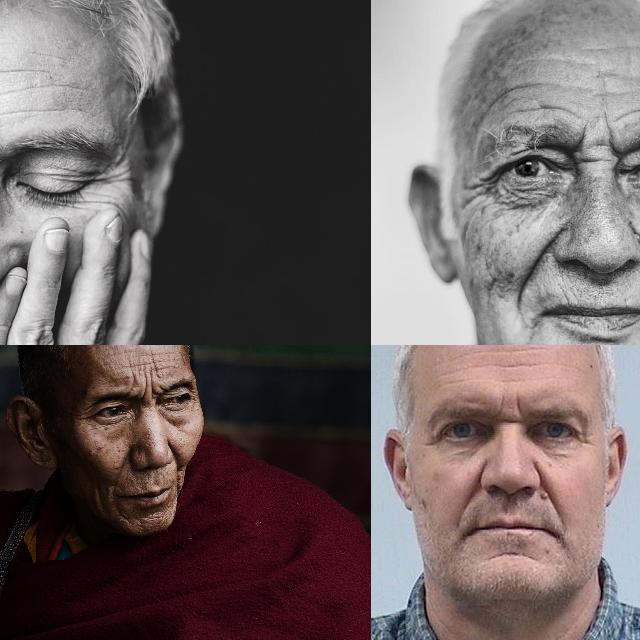chin: (488, 546, 536, 568), (113, 506, 133, 530)
crows_feet: (472, 172, 500, 200), (103, 159, 133, 185), (72, 406, 95, 428), (421, 432, 445, 452), (574, 427, 592, 451)
forehead: (502, 82, 562, 118), (0, 56, 53, 86), (0, 104, 80, 120), (490, 356, 528, 384), (481, 345, 536, 362), (436, 362, 470, 388), (134, 351, 166, 371)
frown_line: (494, 392, 524, 428), (603, 118, 623, 164), (572, 130, 592, 172), (142, 380, 162, 406)
gummy_smile: (514, 242, 550, 296), (536, 467, 558, 515), (463, 474, 483, 512), (112, 449, 130, 487), (167, 444, 186, 476)
masseter: (481, 273, 505, 315), (90, 476, 106, 512)
sad_smile: (526, 311, 542, 339)
